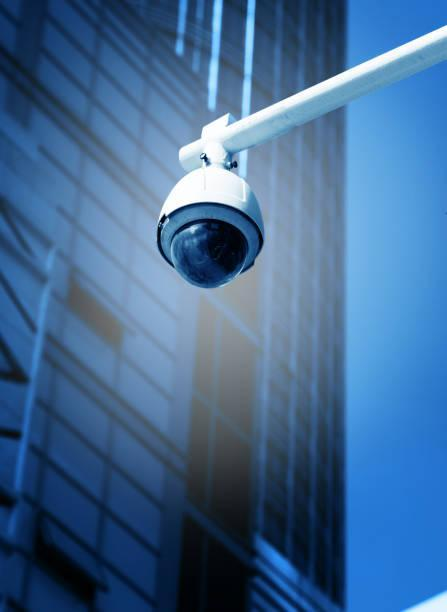camera: (120, 117, 308, 295)
